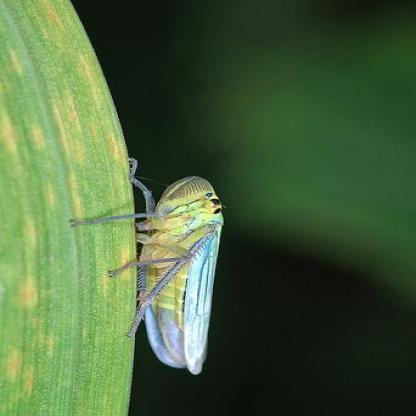Green-Leafhopper: (91, 160, 230, 384)
